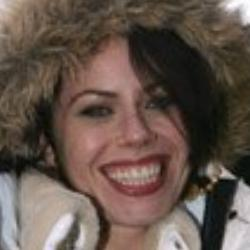face: (5, 5, 229, 221)
